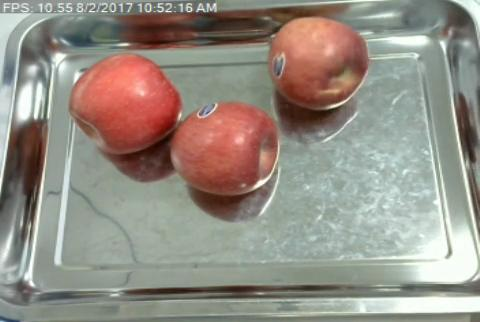apple: (70, 52, 179, 153), (173, 102, 277, 194), (269, 16, 368, 109)
